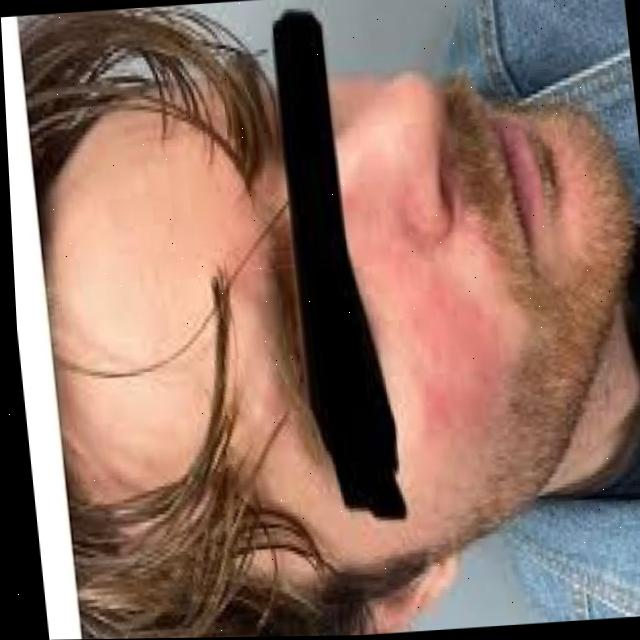Rosacea: (379, 265, 491, 436)
